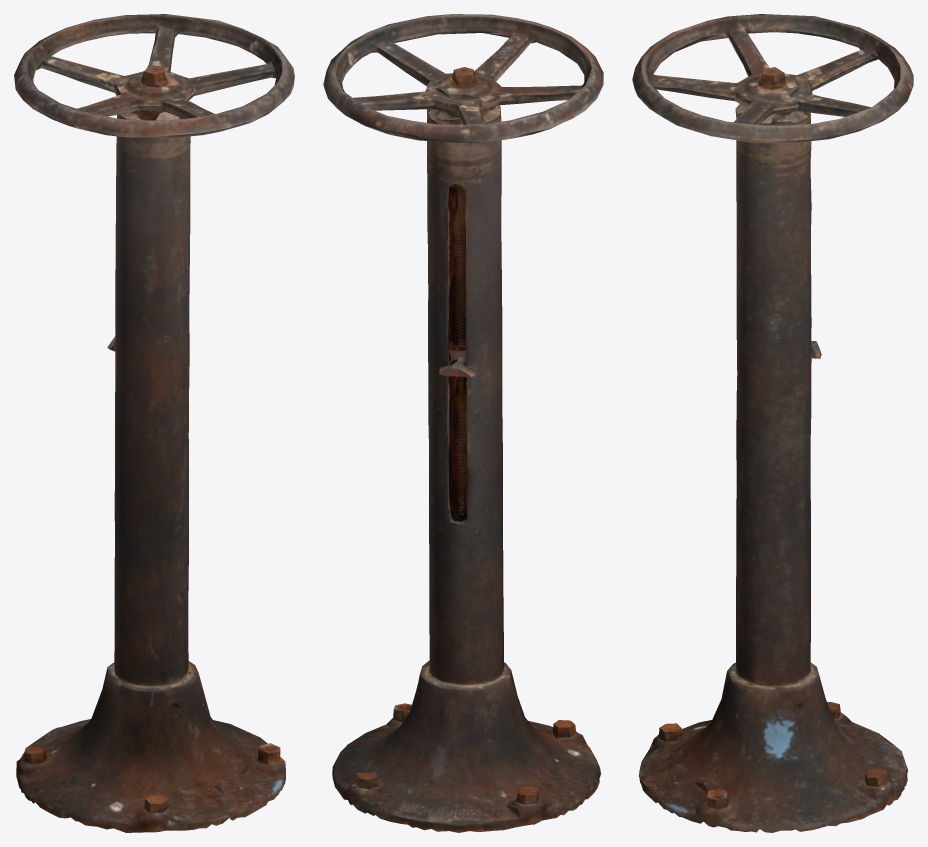
The model's file is valve_wheel_scan.glb.
3 renders of one model, left to right at view 1: azimuth 30°, elevation 25°; view 2: azimuth 150°, elevation 25°; view 3: azimuth 270°, elevation 25°, orthographic.
Parts seen in each view (by area): view 1: valve_wheel_scan; view 2: valve_wheel_scan; view 3: valve_wheel_scan.
Boxes of the visible parts, box(x1,y1,x2,y2) form: valve_wheel_scan: box(14, 14, 294, 832); valve_wheel_scan: box(323, 14, 603, 832); valve_wheel_scan: box(632, 14, 913, 832).
Size of what is drawn, in the model's own units: 0.2989 by 0.8334 by 0.2993.
Materials: 1 (1 with a texture image).
